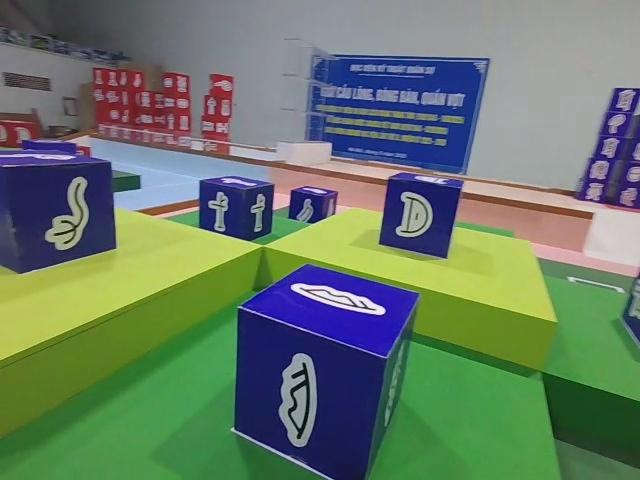R2 Real Blue: (230, 262, 421, 480), (2, 153, 119, 277), (379, 173, 465, 261), (197, 177, 275, 243), (287, 187, 337, 225)
